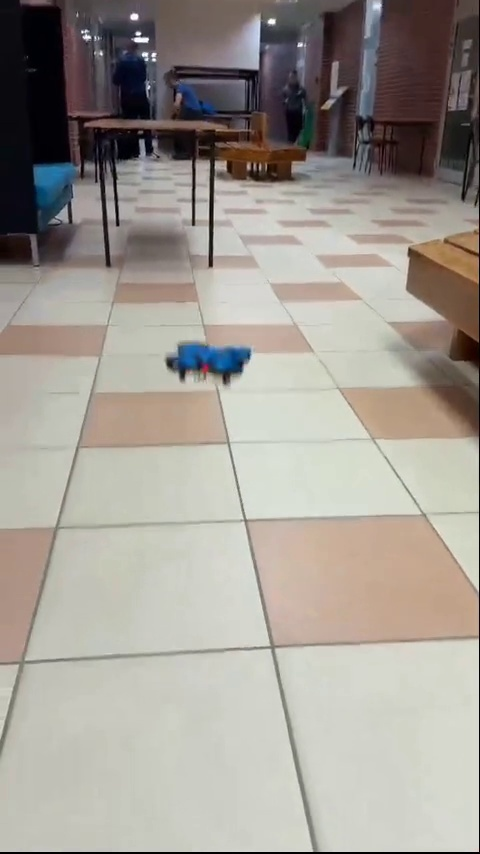drone: (165, 345, 252, 385)
no vest: (116, 39, 161, 162), (170, 69, 216, 123), (283, 66, 307, 151)
